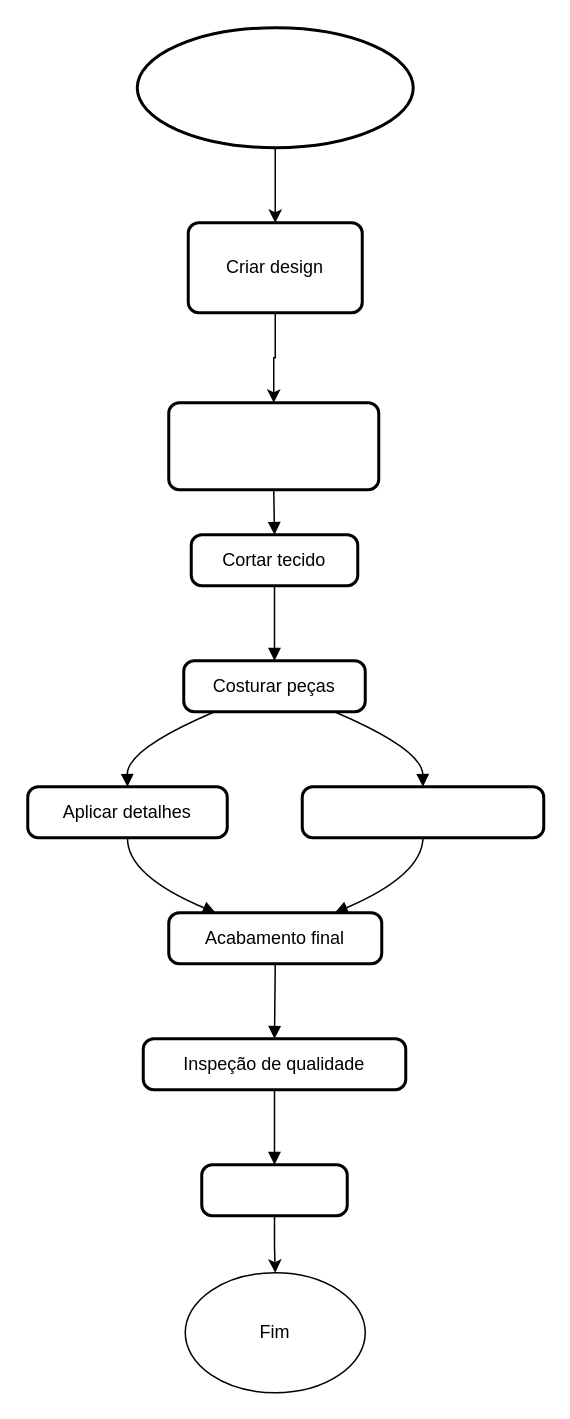
The diagram is 570 pixels wide and 1419 high, and some of its shapes have lost their labels. Here are the shapes that lost their labels. From the top down, the box of each, then its label:
(135, 26, 414, 148): Acabamento de tecidos
(166, 400, 380, 490): Identificar tecido
(300, 784, 544, 838): Adicionar acessórios
(200, 1162, 348, 1216): Embalagem
